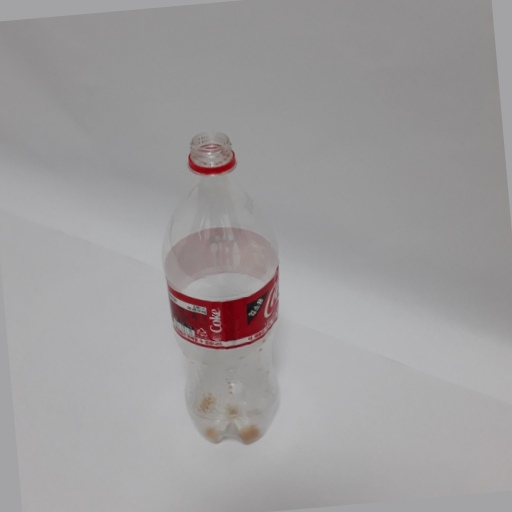Plastic_0: (150, 128, 291, 451)
